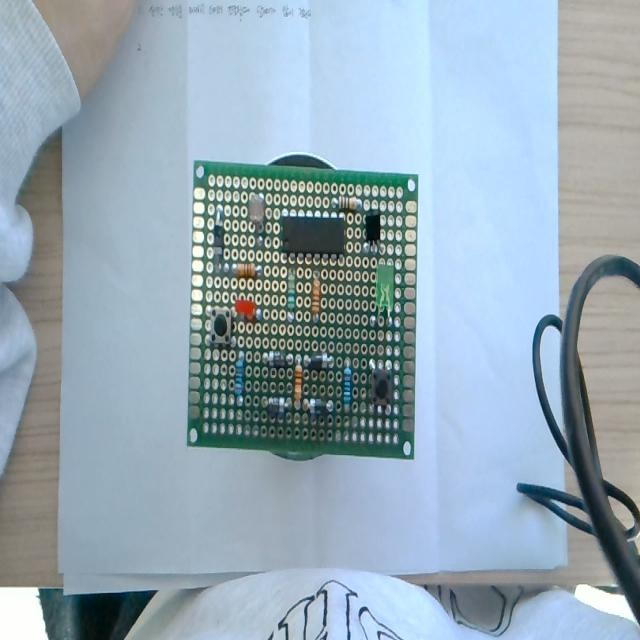IC: (280, 208, 348, 263)
cds: (247, 194, 269, 245)
diode: (210, 195, 226, 279), (302, 346, 335, 372), (263, 346, 294, 373), (262, 391, 292, 418), (306, 392, 336, 418)
led: (373, 262, 397, 331), (234, 294, 266, 324)
resistor: (232, 348, 250, 410), (332, 187, 362, 220), (226, 260, 266, 280), (310, 273, 324, 327), (294, 353, 305, 419), (285, 268, 296, 324), (344, 362, 354, 412)
switch: (204, 305, 236, 356), (370, 364, 394, 414)
transistor: (361, 212, 387, 255)
